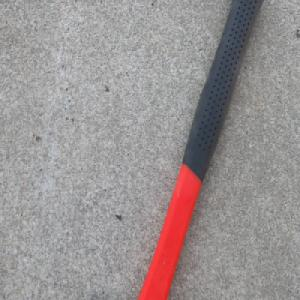Hammer: (133, 0, 261, 300)
